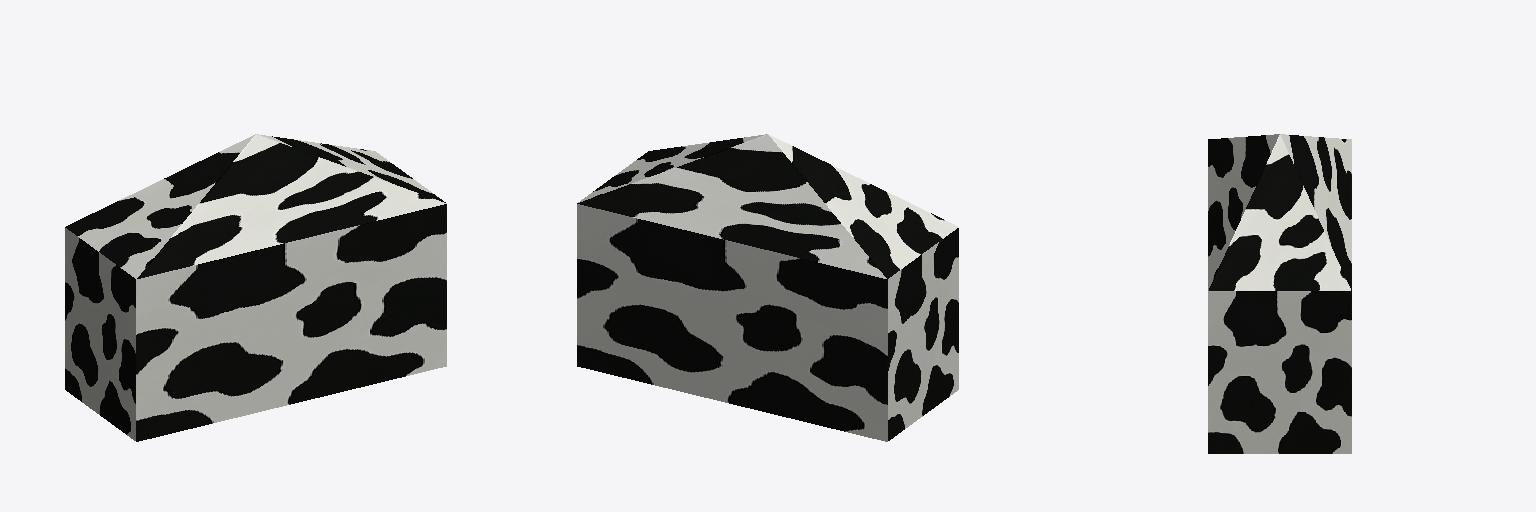
3 views of the same model, side by side, from view 1: azimuth 30°, elevation 25°; view 2: azimuth 150°, elevation 25°; view 3: azimuth 270°, elevation 25° (orthographic).
Parts seen in each view (by area): view 1: Vaca; view 2: Vaca; view 3: Vaca.
Boxes of the visible parts, <box> form: Vaca: <box>65,134,446,441</box>; Vaca: <box>577,134,958,441</box>; Vaca: <box>1208,134,1351,453</box>.
Size of the model in its own units: 1 by 0.75 by 0.4.
1 materials, 1 textured.